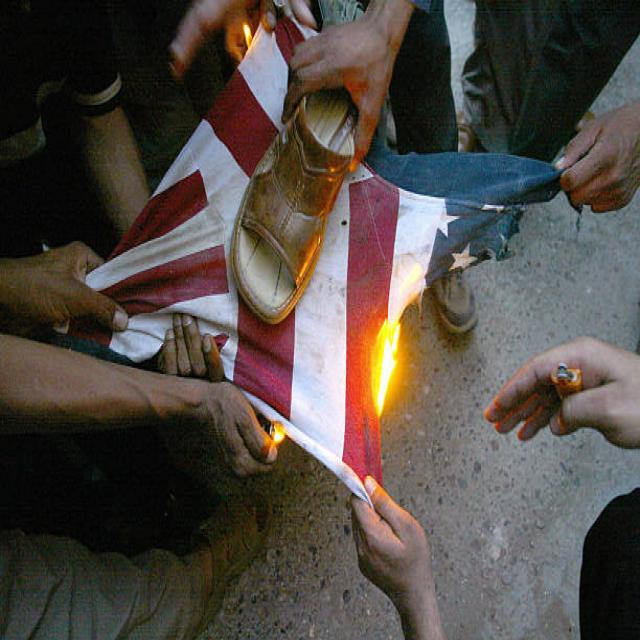fire: (370, 319, 401, 418)
